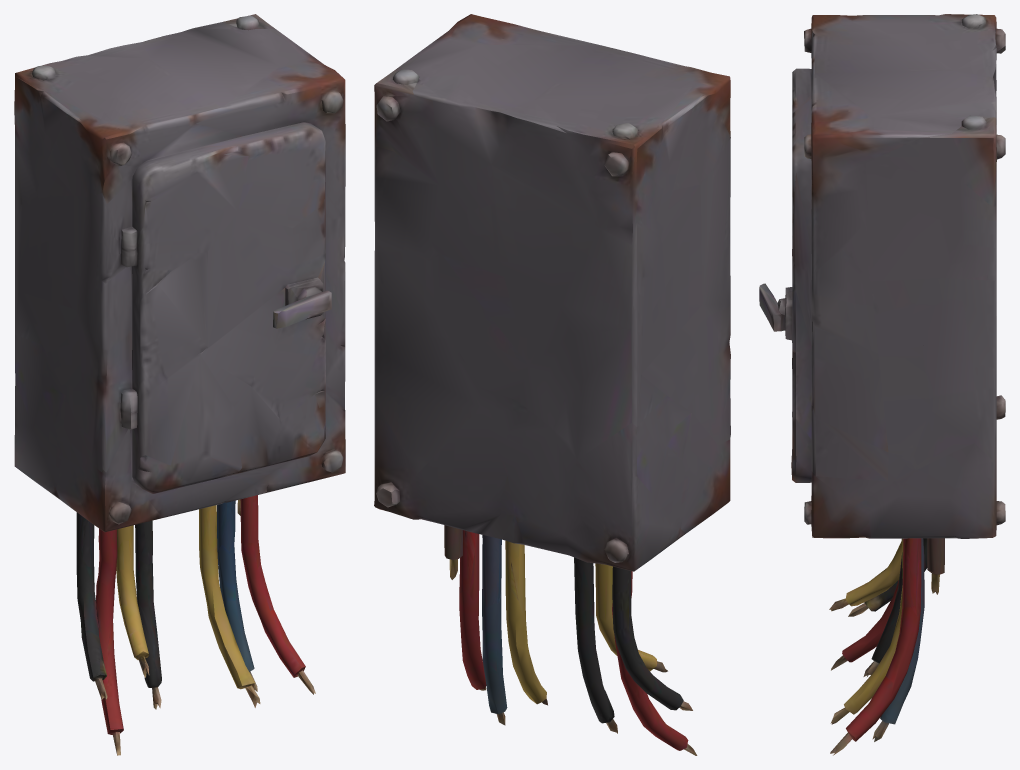
Rendered from fuse_box_bytovoy_idle.glb.
The picture shows the model from 3 angles, left to right: view 1: azimuth 30°, elevation 25°; view 2: azimuth 150°, elevation 25°; view 3: azimuth 270°, elevation 25°; orthographic projection. The views are drawn at different scales.
Visible parts, largest first — view 1: tripo_node_85369773-4b69-4d62-bcd5-ae4a81d3ca1b; view 2: tripo_node_85369773-4b69-4d62-bcd5-ae4a81d3ca1b; view 3: tripo_node_85369773-4b69-4d62-bcd5-ae4a81d3ca1b.
Part boxes in pixels (x1,y1,x2,y2): tripo_node_85369773-4b69-4d62-bcd5-ae4a81d3ca1b: (14,14,345,755); tripo_node_85369773-4b69-4d62-bcd5-ae4a81d3ca1b: (374,14,730,755); tripo_node_85369773-4b69-4d62-bcd5-ae4a81d3ca1b: (759,14,1005,755).
Bounding box in the file's own units: 0.2018 × 0.4998 × 0.1716.
Materials: 1 (1 with a texture image).
